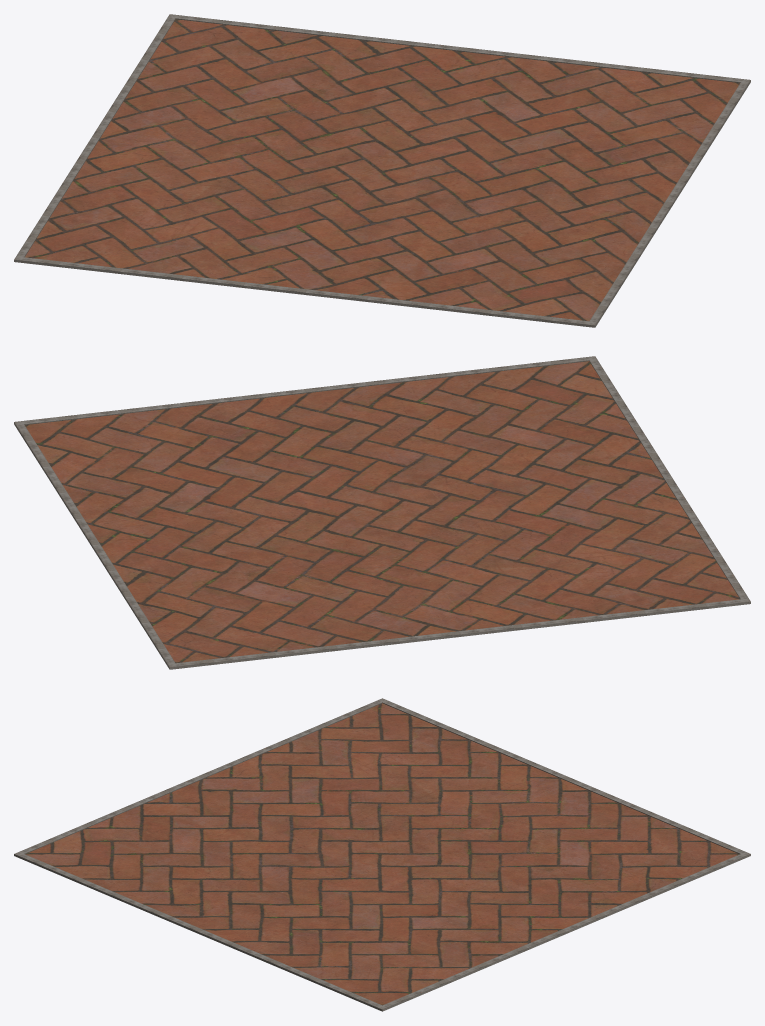
The model's file is SM_Pavement_45_01.fbx.
The picture shows the model from 3 angles, top to bottom: view 1: azimuth 30°, elevation 25°; view 2: azimuth 150°, elevation 25°; view 3: azimuth 270°, elevation 25°; orthographic projection. The views are drawn at different scales.
Visible parts, largest first — view 1: SM_Pavement_45_01_LOD0; view 2: SM_Pavement_45_01_LOD0; view 3: SM_Pavement_45_01_LOD0.
Boxes of the visible parts, x1,y1,x2,y2 form: SM_Pavement_45_01_LOD0: (14,14,750,327); SM_Pavement_45_01_LOD0: (14,356,750,669); SM_Pavement_45_01_LOD0: (14,698,750,1011).
Size of the model in its own units: 1018 by 1018 by 3.
Materials: 2 (2 with a texture image).
